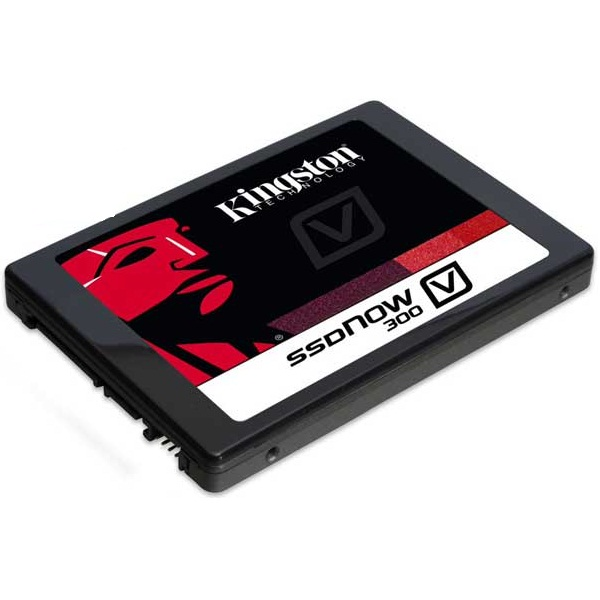Kingston: (48, 199, 287, 395), (214, 144, 383, 237)
